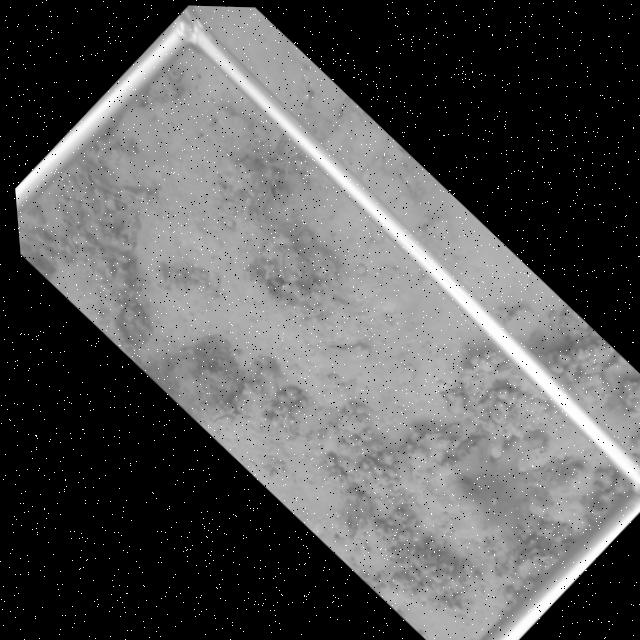Oyster-Closed: (276, 243, 304, 281)
Oyster-Indeterminate: (503, 304, 541, 348)
Oyster-Open: (510, 545, 560, 580), (80, 166, 119, 200)
